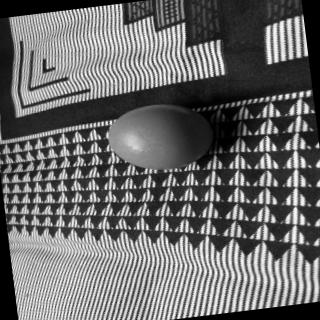Telur: (100, 95, 224, 178)
